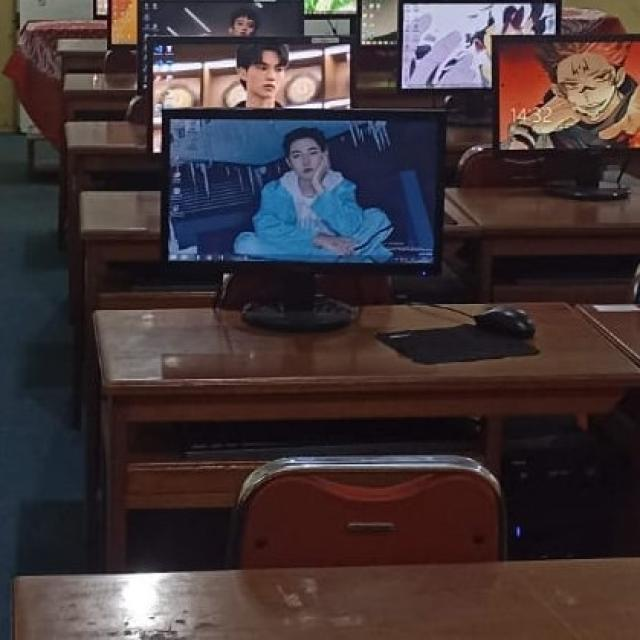onscreen: (162, 112, 443, 271), (151, 38, 350, 152), (496, 36, 640, 149), (401, 2, 533, 88), (141, 0, 302, 38), (111, 0, 138, 44)
